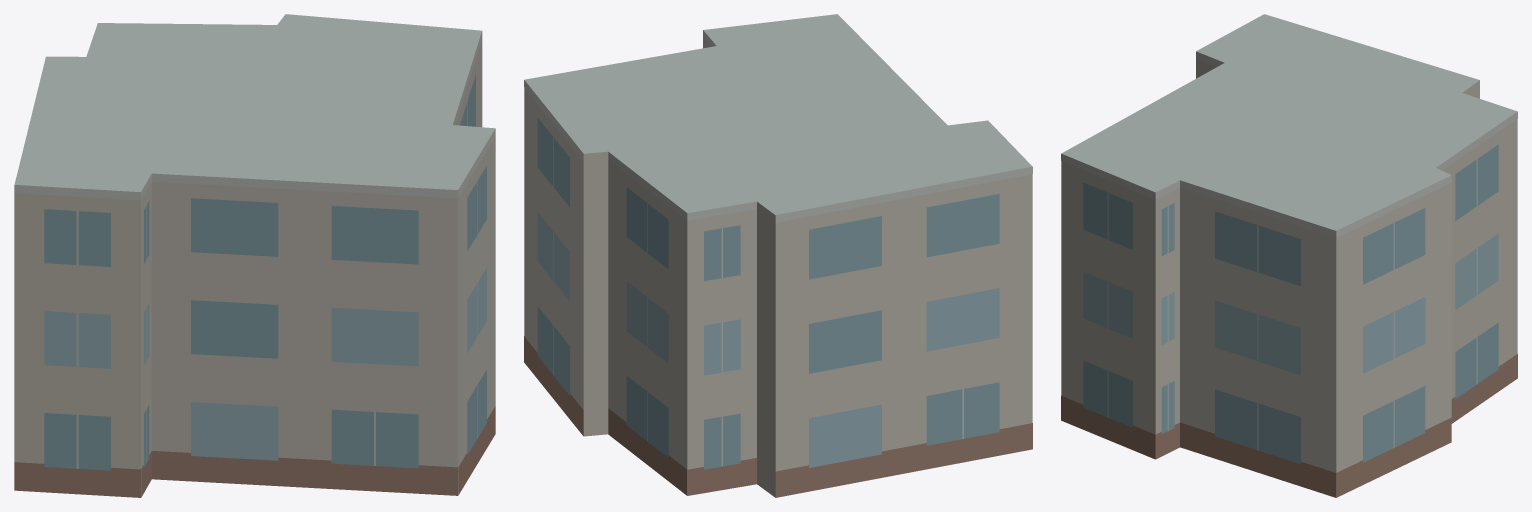
File: survey-upis-32666263.glb
3 renders of one model, left to right at view 1: azimuth 30°, elevation 25°; view 2: azimuth 150°, elevation 25°; view 3: azimuth 270°, elevation 25°, orthographic. The views are drawn at different scales.
Parts seen in each view (by area): view 1: survey-upis-32666263.tmp; view 2: survey-upis-32666263.tmp; view 3: survey-upis-32666263.tmp.
Part boxes in pixels (x1,y1,x2,y2): survey-upis-32666263.tmp: [14, 14, 495, 497]; survey-upis-32666263.tmp: [524, 14, 1032, 497]; survey-upis-32666263.tmp: [1061, 14, 1517, 497].
Size of the model in its own units: 15.95 by 9.15 by 14.19.
